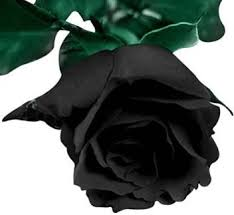rose: (33, 52, 234, 211)
